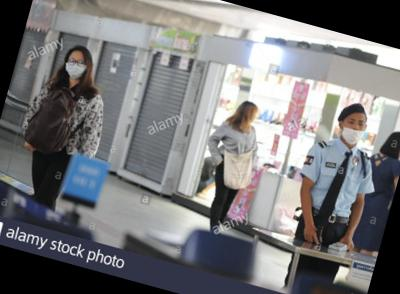mask_weared_incorrect: (337, 114, 369, 149)
with_mask: (62, 56, 91, 83)
